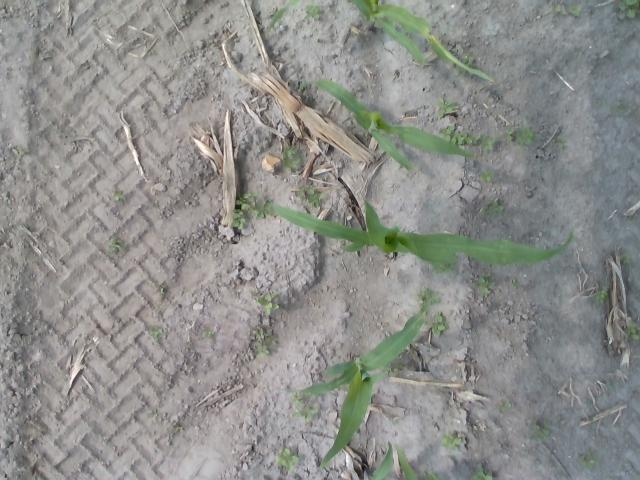Maize: (296, 290, 430, 470), (268, 199, 574, 271), (264, 0, 496, 85), (306, 80, 474, 173), (371, 441, 420, 480)
Weeds: (294, 396, 316, 420), (617, 0, 640, 21), (436, 97, 460, 116), (445, 125, 470, 143), (277, 449, 299, 468), (442, 432, 461, 450), (308, 188, 326, 206), (477, 273, 492, 294), (531, 423, 549, 440), (230, 212, 247, 229), (238, 193, 255, 210), (431, 316, 445, 336), (515, 129, 535, 143), (259, 294, 280, 307), (287, 150, 301, 169), (483, 199, 505, 211), (472, 466, 490, 480), (578, 452, 595, 466), (112, 237, 125, 252), (596, 289, 608, 305), (306, 5, 320, 18), (483, 136, 498, 148), (112, 190, 126, 202), (498, 402, 511, 414), (554, 136, 566, 148), (482, 171, 494, 182), (503, 128, 514, 140), (256, 344, 268, 355), (464, 52, 475, 64), (424, 471, 439, 479), (152, 330, 162, 340), (572, 6, 582, 16), (266, 336, 277, 344), (202, 330, 212, 338), (256, 329, 264, 338), (176, 426, 183, 431)
